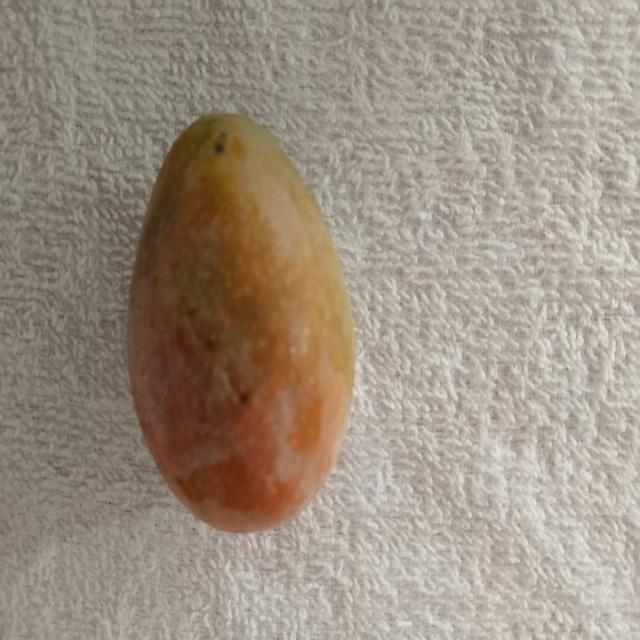mango: (128, 115, 353, 531)
